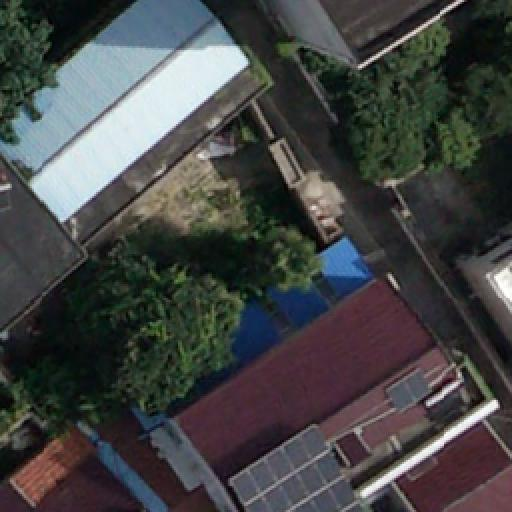solar-panel: (210, 415, 368, 512)
